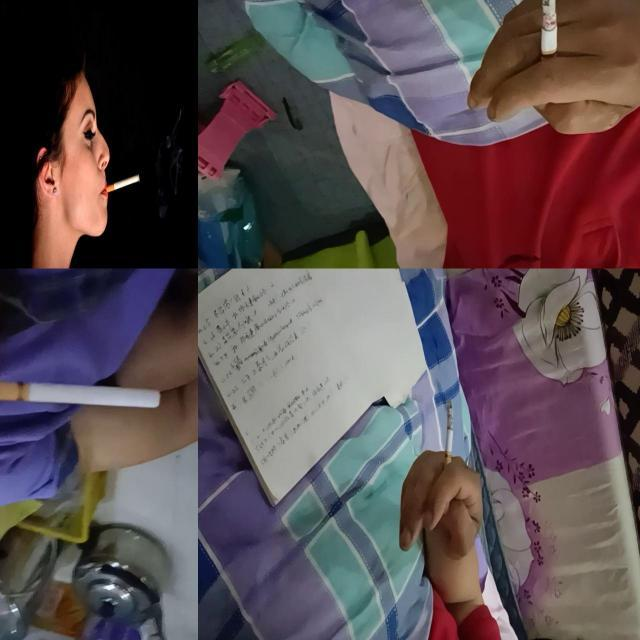smoke: (0, 378, 162, 410), (540, 0, 558, 79), (442, 401, 453, 487), (102, 172, 140, 195)
